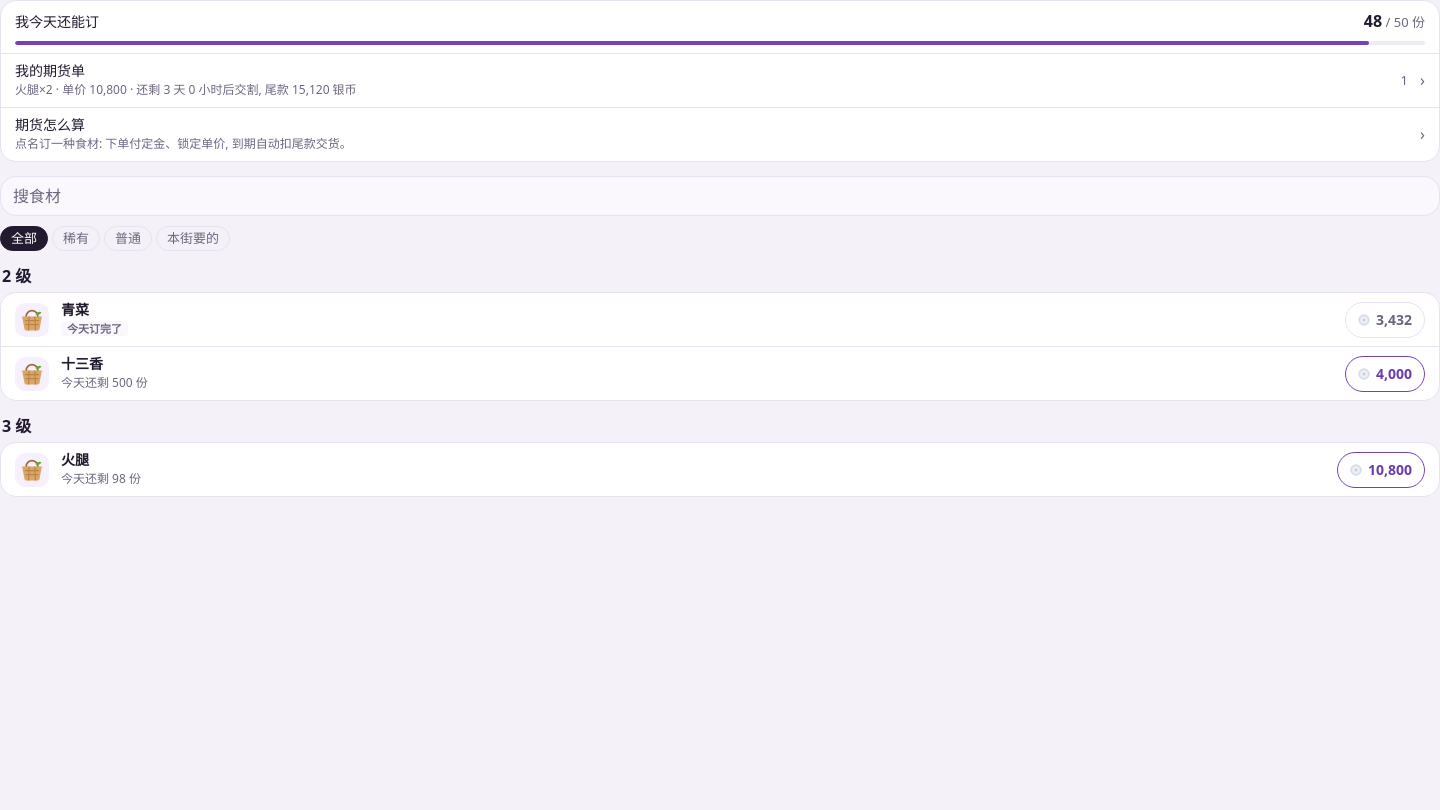
Test: FuturesPanel（期货设计 §10） › 说明里的定金比例、交割时长、单价规则按区服数值写（backlog：原来写死 2 倍、20%）
Click the button with test id "fu-help" at (50, 124), box [1,107,1439,161]
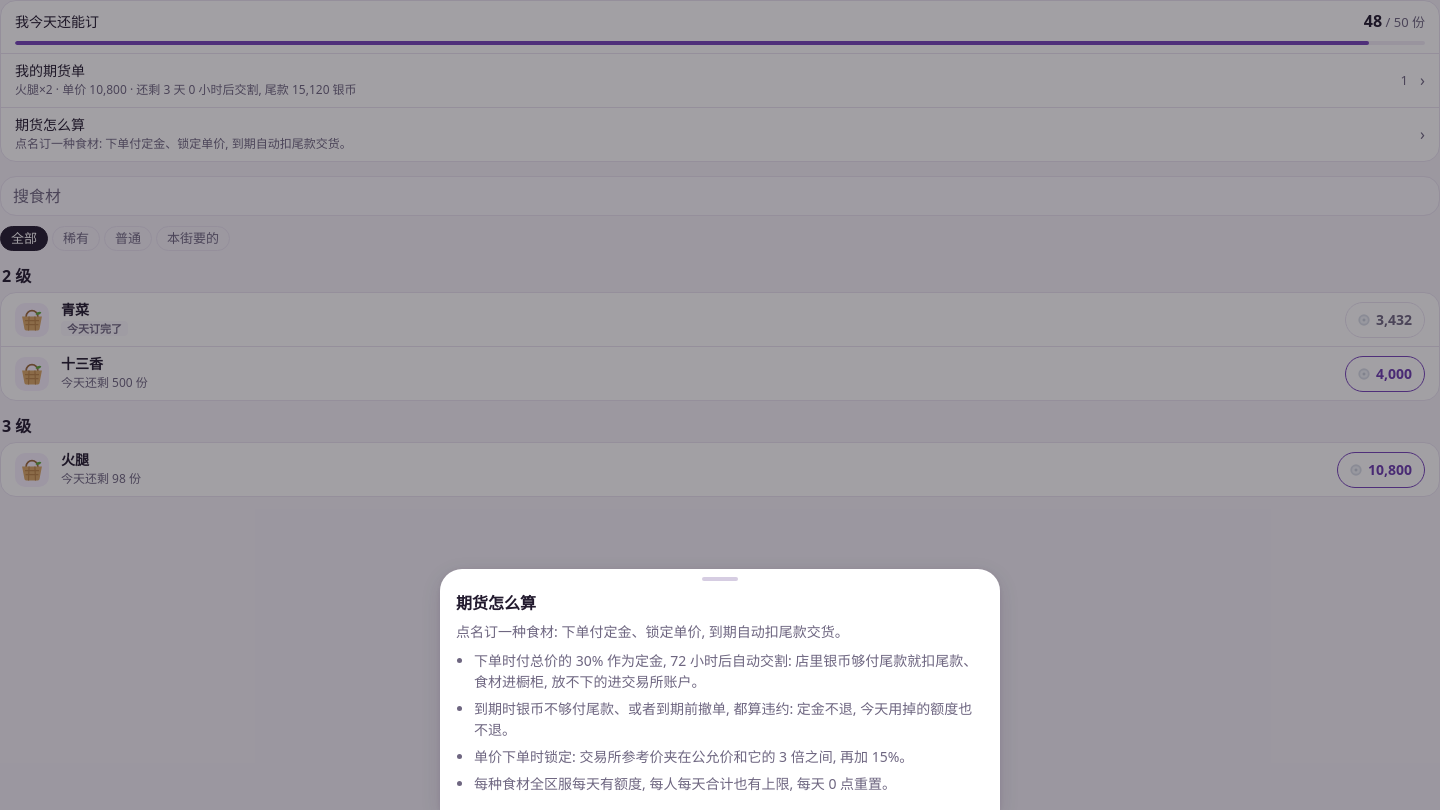
Expected: the element with class "dt-help" shows "公允价和它的 3 倍之间, 再加 15%", [474,747,913,766]
Expected: the element with class "dt-help" shows "总价的 30% 作为定金, 72 小时后", [474,651,977,691]
